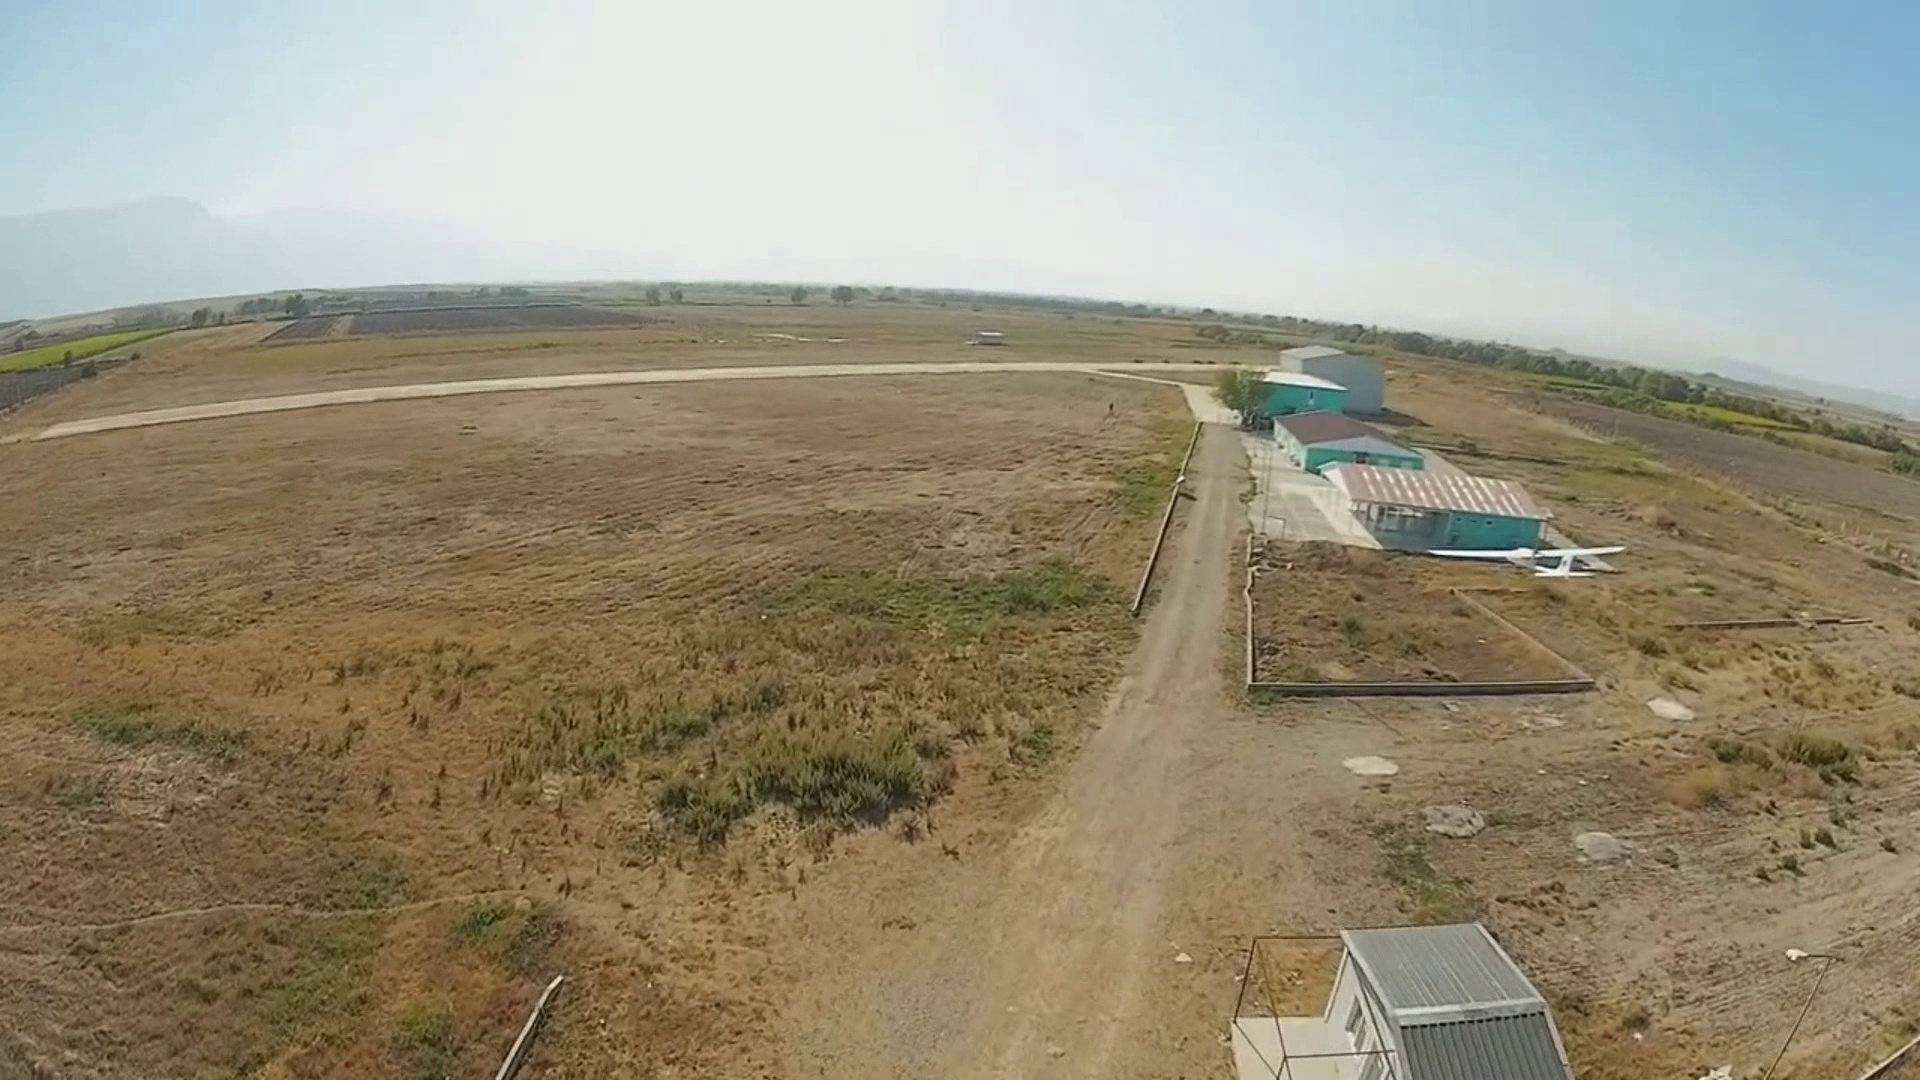airplane: (1303, 449, 1623, 574)
